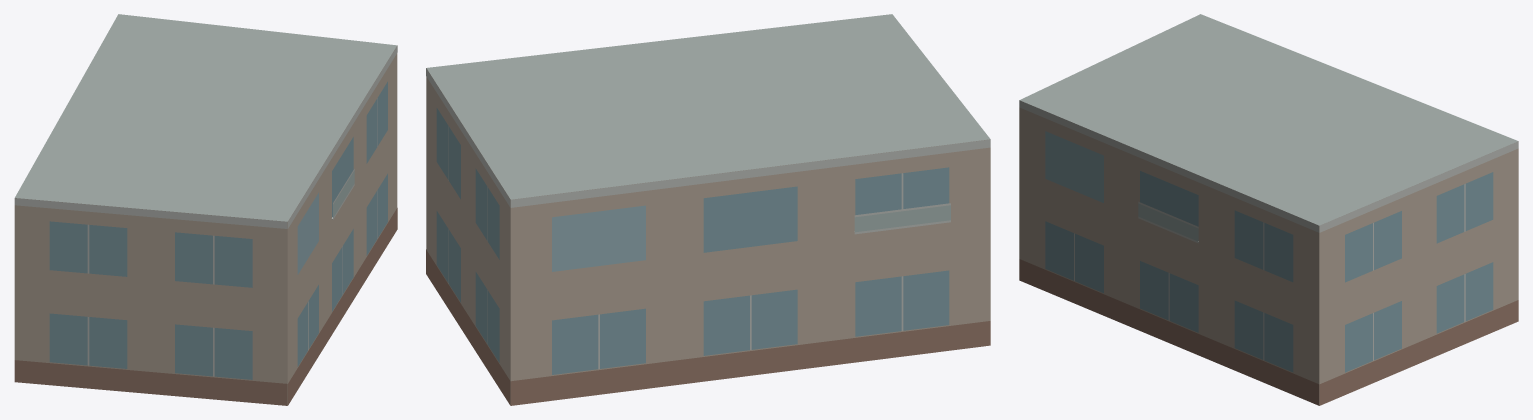
File: survey-upis-32849216.glb
The picture shows the model from 3 angles, left to right: view 1: azimuth 30°, elevation 25°; view 2: azimuth 150°, elevation 25°; view 3: azimuth 270°, elevation 25°; orthographic projection. The views are drawn at different scales.
Visible parts, largest first — view 1: survey-upis-32849216.tmp; view 2: survey-upis-32849216.tmp; view 3: survey-upis-32849216.tmp.
Part boxes in pixels (box(x1,y1,x2,y2)): survey-upis-32849216.tmp: box(14, 14, 397, 405); survey-upis-32849216.tmp: box(426, 14, 990, 405); survey-upis-32849216.tmp: box(1019, 14, 1518, 405).
Bounding box in the file's own units: 15.38 × 6.1 × 15.33.
